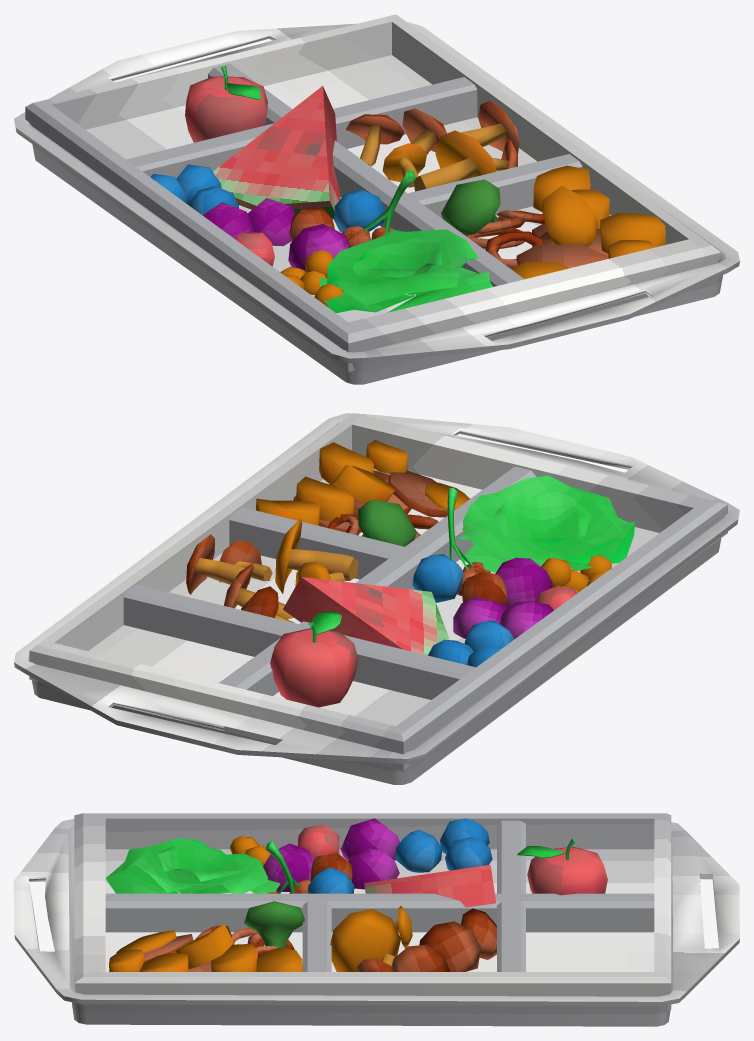
The model's file is MessTray_Fruit.fbx.
3 views of the same model, one above another, from view 1: azimuth 30°, elevation 25°; view 2: azimuth 150°, elevation 25°; view 3: azimuth 270°, elevation 25° (orthographic). The views are drawn at different scales.
Visible parts, largest first — view 1: MessTray; view 2: MessTray; view 3: MessTray.
Boxes of the visible parts, box(x1,y1,x2,y2) form: MessTray: box(14, 14, 739, 384); MessTray: box(14, 413, 739, 784); MessTray: box(14, 813, 739, 1026).
Bounding box in the file's own units: 58.47 × 14.86 × 97.26.
